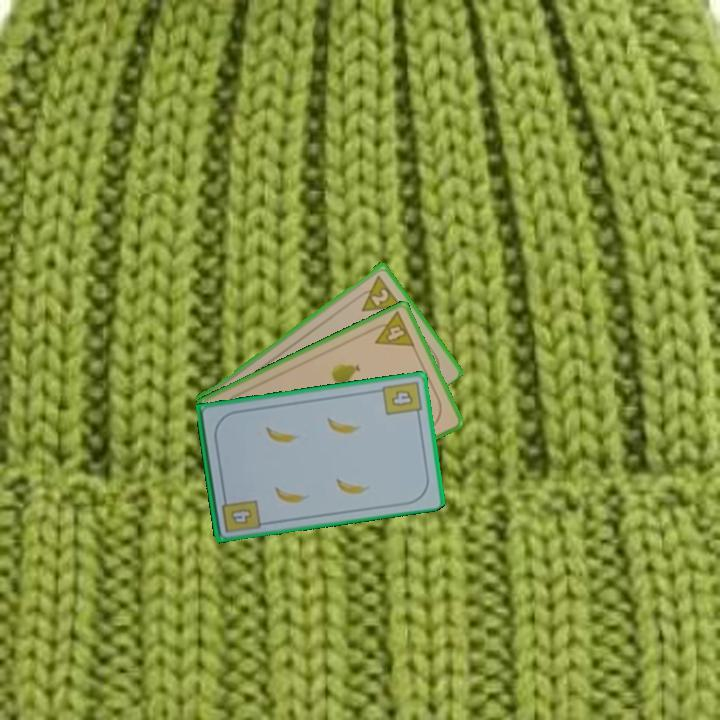2p: (351, 271, 403, 314)
4b: (379, 377, 424, 421), (218, 491, 262, 535)
4p: (366, 308, 418, 350)
